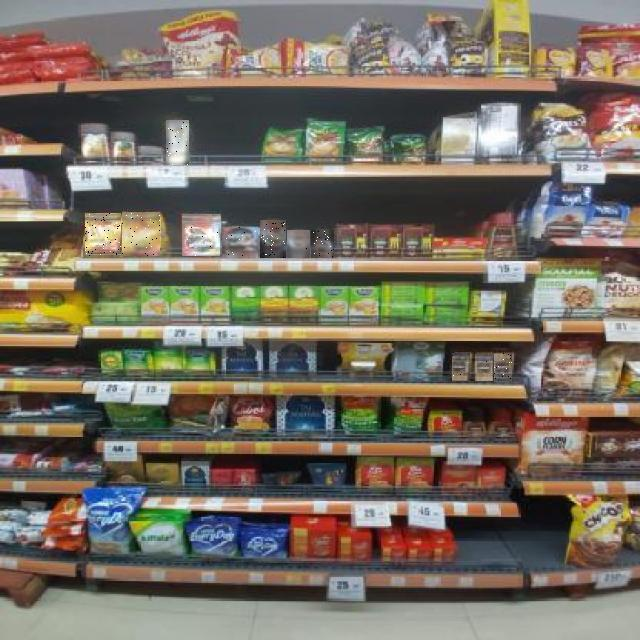Coffee: (122, 213, 160, 257), (182, 215, 220, 257), (85, 214, 121, 258), (222, 228, 258, 258), (166, 120, 189, 165), (260, 220, 286, 258), (287, 230, 310, 258), (311, 230, 334, 258), (494, 353, 512, 382), (453, 353, 471, 381), (475, 354, 493, 381)
